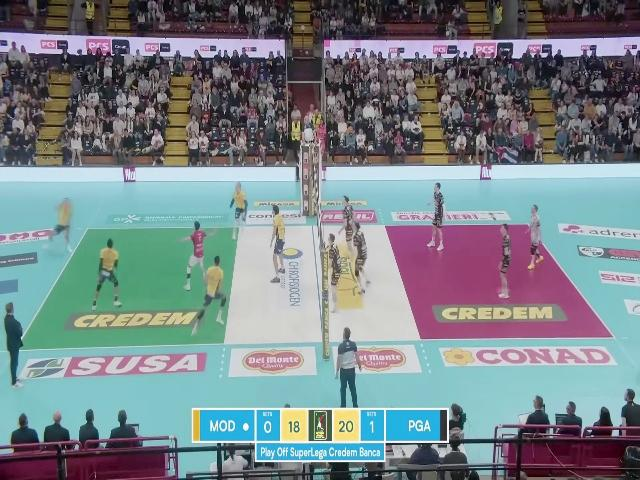volleyball court: (8, 225, 613, 350)
